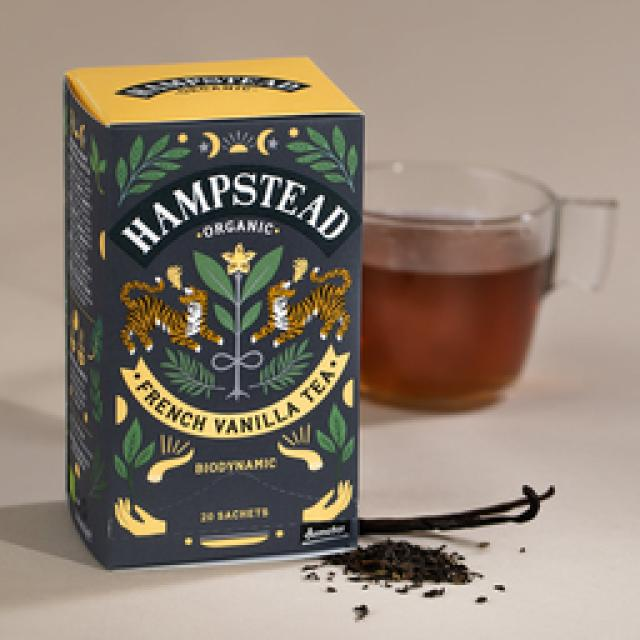tea-bags: (65, 60, 362, 568)
